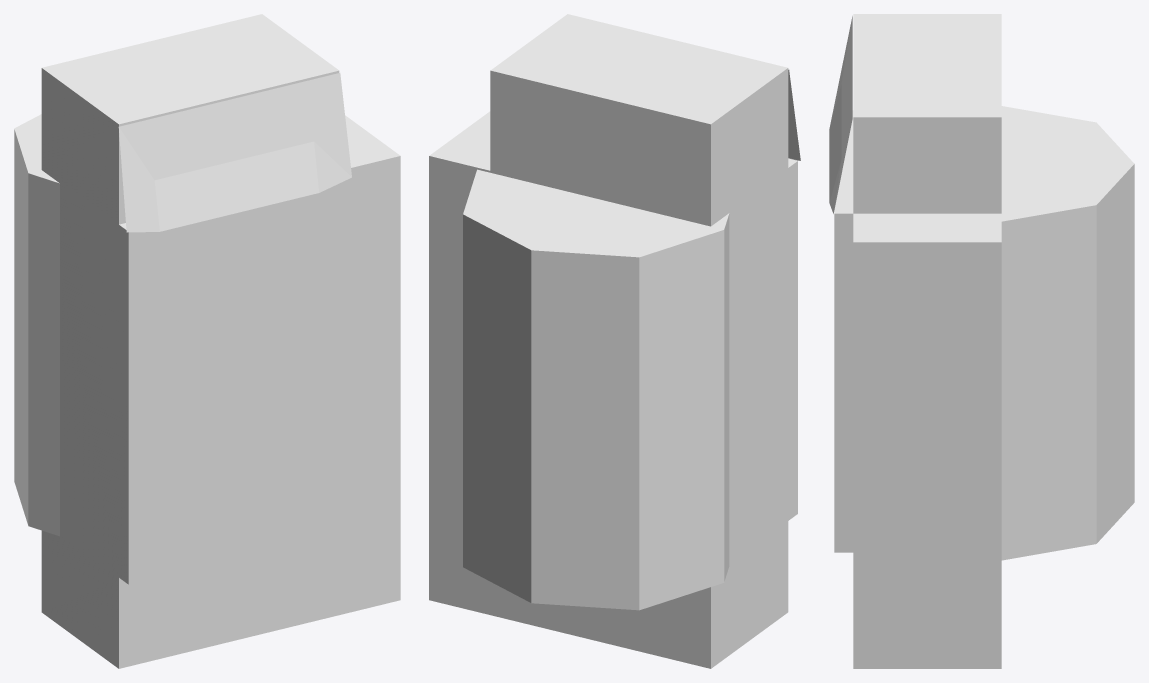
Rendered from vendingMachine01.glb.
The picture shows the model from 3 angles, left to right: view 1: azimuth 30°, elevation 25°; view 2: azimuth 150°, elevation 25°; view 3: azimuth 270°, elevation 25°; orthographic projection. The views are drawn at different scales.
Parts seen in each view (by area): view 1: vending_Machine_Big; view 2: vending_Machine_Big; view 3: vending_Machine_Big.
Part boxes in pixels (left/top/right/bottom): vending_Machine_Big: left=14, top=14, right=400, bottom=668; vending_Machine_Big: left=429, top=14, right=800, bottom=668; vending_Machine_Big: left=829, top=14, right=1134, bottom=668.
Bounding box in the file's own units: 1.72 × 3.04 × 1.61.
Materials: 2 (2 with a texture image).
